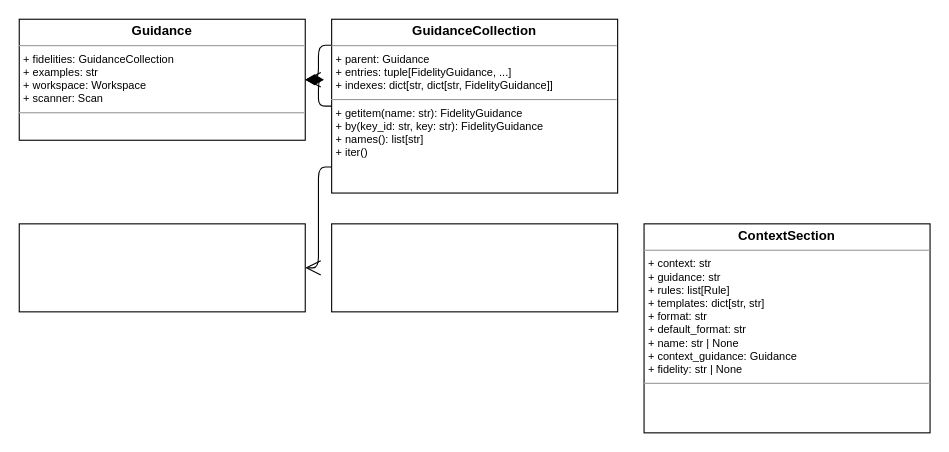
Image size: 949x452. Some labels were removed from this diagram. Each missing label, with the centre of its shape:
FidelityGuidance + stage: str: the point at 161,267
Guidance: the point at 474,267
